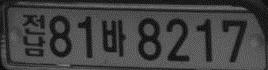1: (195, 17, 218, 62), (76, 16, 99, 58)
2: (165, 17, 190, 61)
7: (222, 19, 248, 63)
8: (137, 17, 162, 61), (49, 14, 73, 58)
바: (102, 19, 126, 57)
전남_V: (21, 13, 46, 57)
